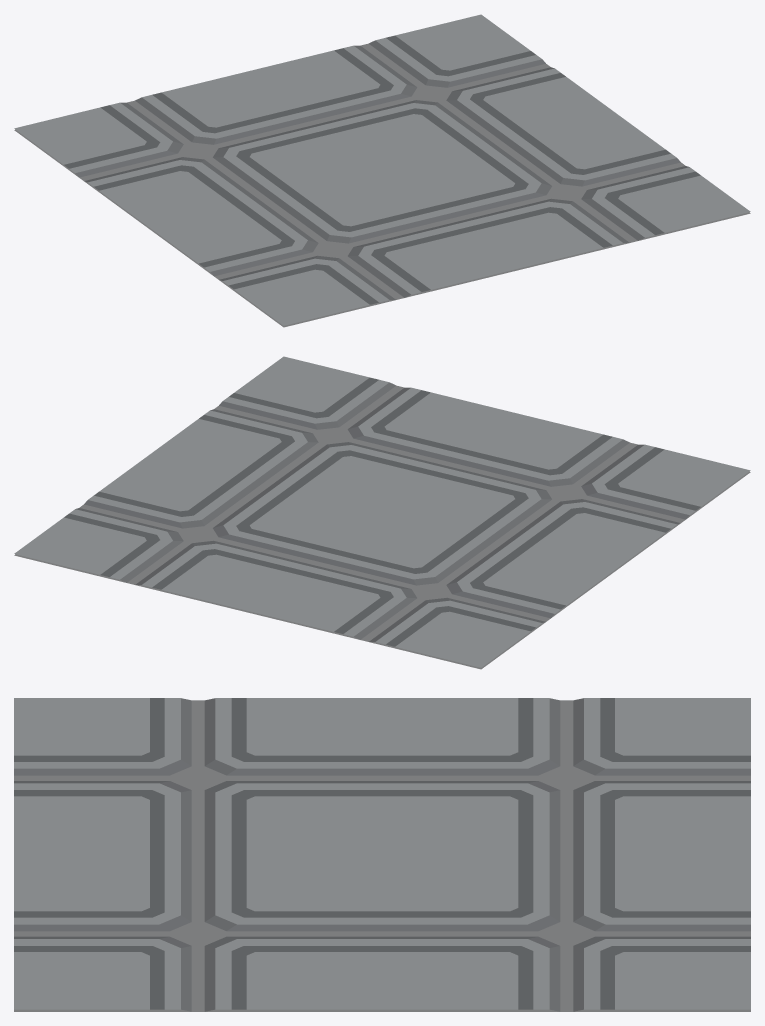
Rendered from Floor_type_B_031.glb.
The picture shows the model from 3 angles, top to bottom: view 1: azimuth 30°, elevation 25°; view 2: azimuth 150°, elevation 25°; view 3: azimuth 270°, elevation 25°; orthographic projection. The views are drawn at different scales.
Visible parts, largest first — view 1: Floor_type_B_031; view 2: Floor_type_B_031; view 3: Floor_type_B_031.
Part boxes in pixels (left/top/right/bottom): Floor_type_B_031: left=14, top=14, right=750, bottom=327; Floor_type_B_031: left=14, top=356, right=750, bottom=669; Floor_type_B_031: left=14, top=698, right=750, bottom=1011.
Size of the model in its own units: 4 by 0.0134 by 4.
Materials: 1 (1 with a texture image).
